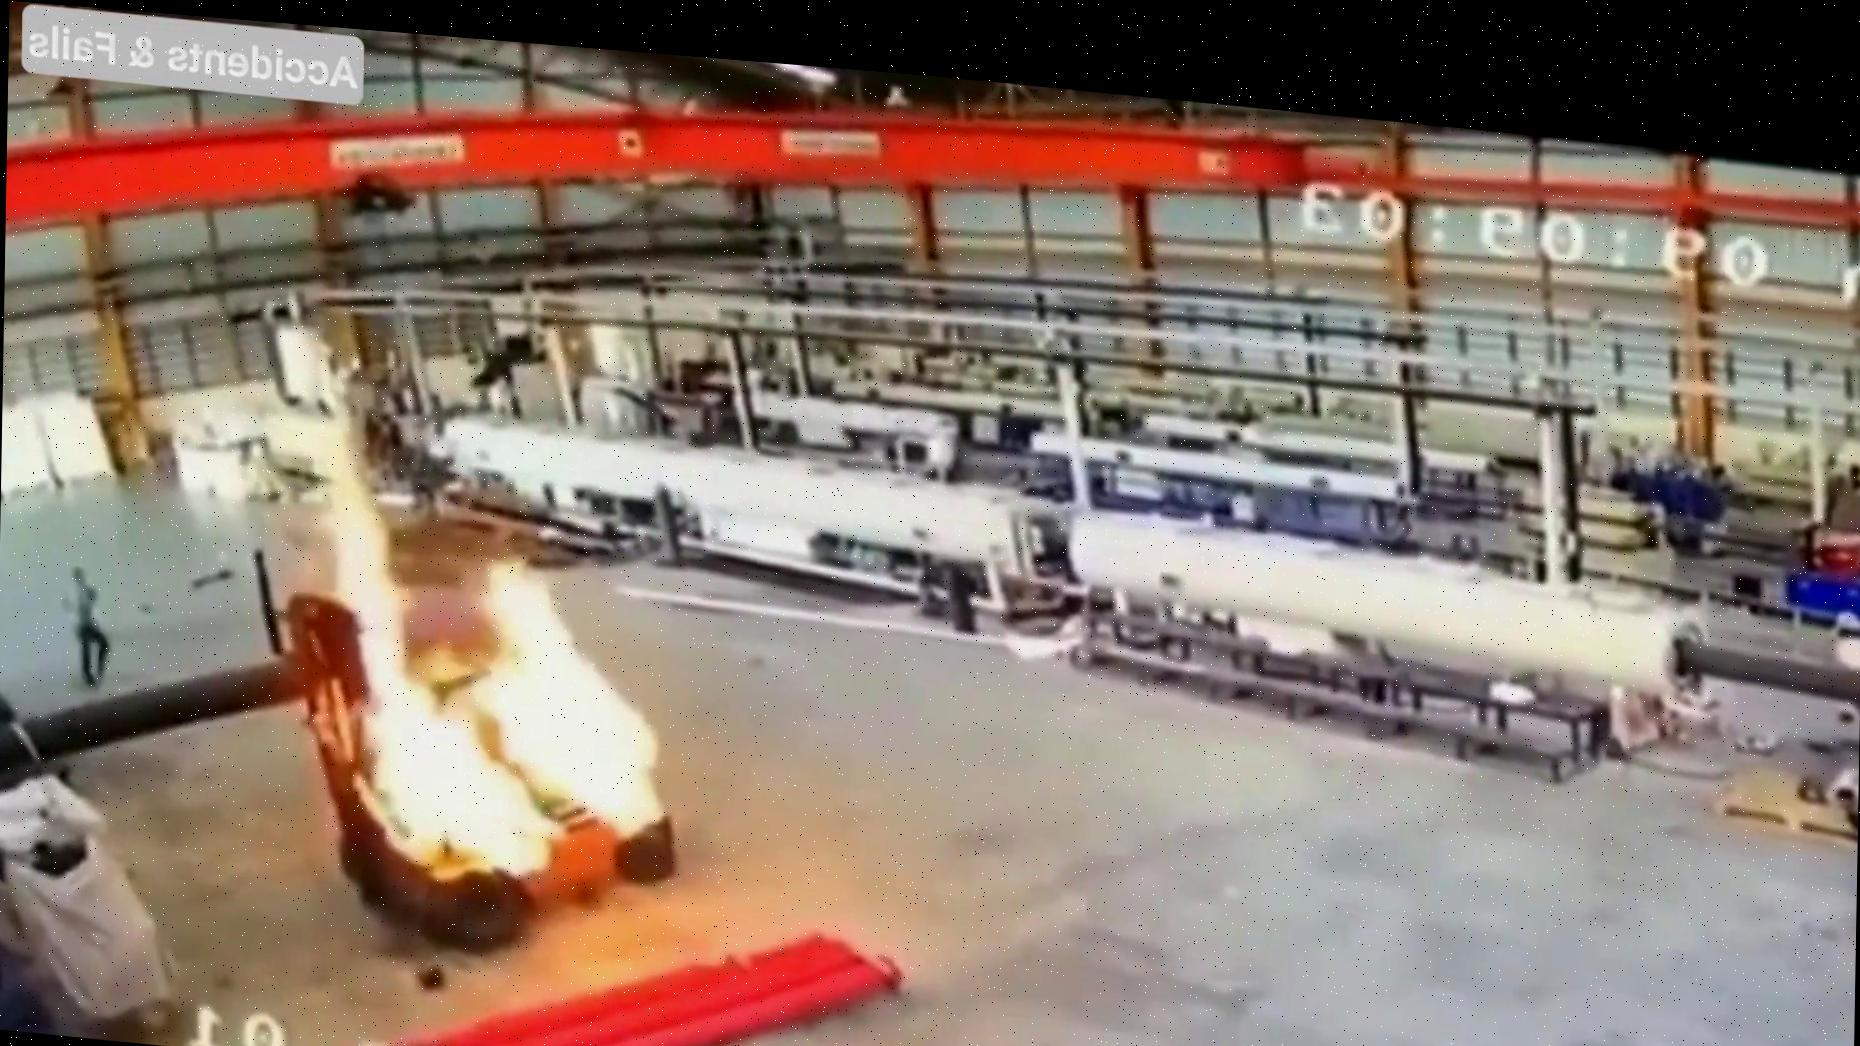fire: (187, 381, 750, 957)
